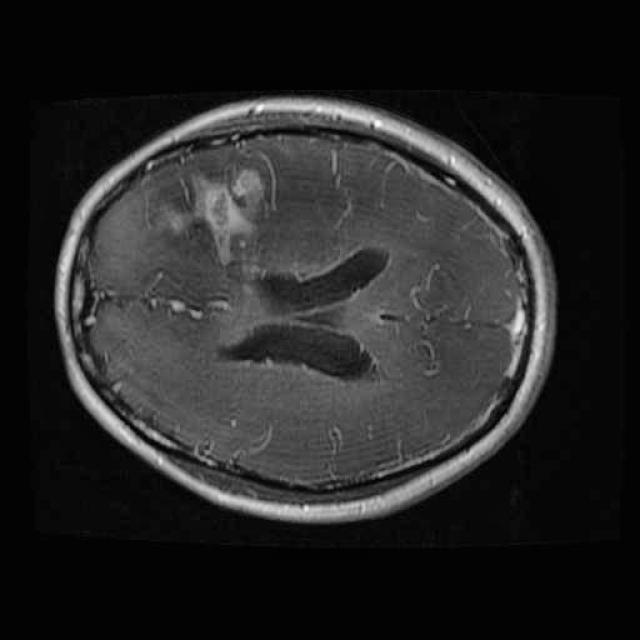Non-Tumor: (139, 151, 278, 279)
